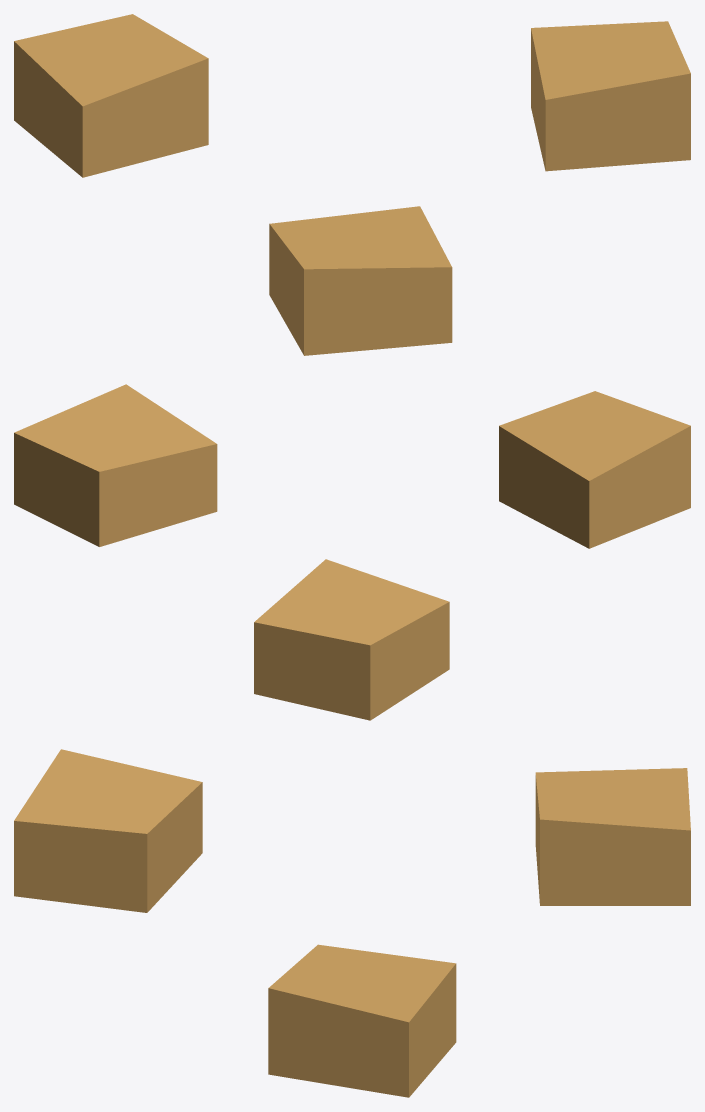
File: palmsugar.fbx
3 renders of one model, top to bottom at view 1: azimuth 30°, elevation 25°; view 2: azimuth 150°, elevation 25°; view 3: azimuth 270°, elevation 25°, orthographic. The views are drawn at different scales.
Visible parts, largest first — view 1: Cube.039, Cube.038, Cube.065; view 2: Cube.065, Cube.039, Cube.038; view 3: Cube.038, Cube.065, Cube.039.
Part boxes in pixels (x1,y1,x2,y2): Cube.039: (14, 14, 208, 177); Cube.038: (269, 206, 452, 355); Cube.065: (531, 21, 690, 171); Cube.065: (14, 384, 217, 546); Cube.039: (254, 559, 449, 720); Cube.038: (499, 391, 690, 548); Cube.038: (14, 749, 202, 912); Cube.065: (268, 944, 456, 1097); Cube.039: (535, 768, 690, 905).
Size of the model in its own units: 84.41 by 12.98 by 92.12.
